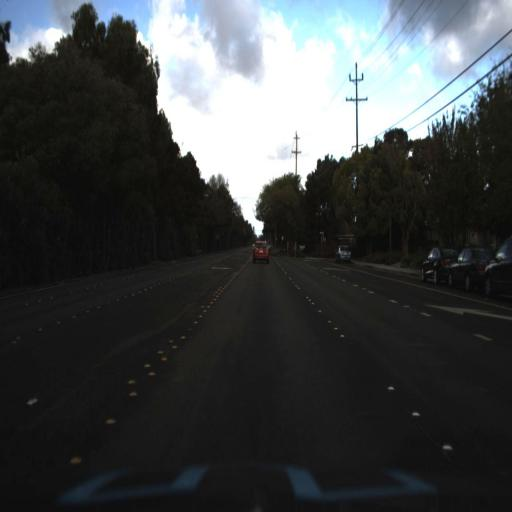car: (448, 244, 495, 292), (480, 238, 512, 303), (418, 243, 452, 286), (250, 234, 272, 270), (334, 242, 351, 266)
